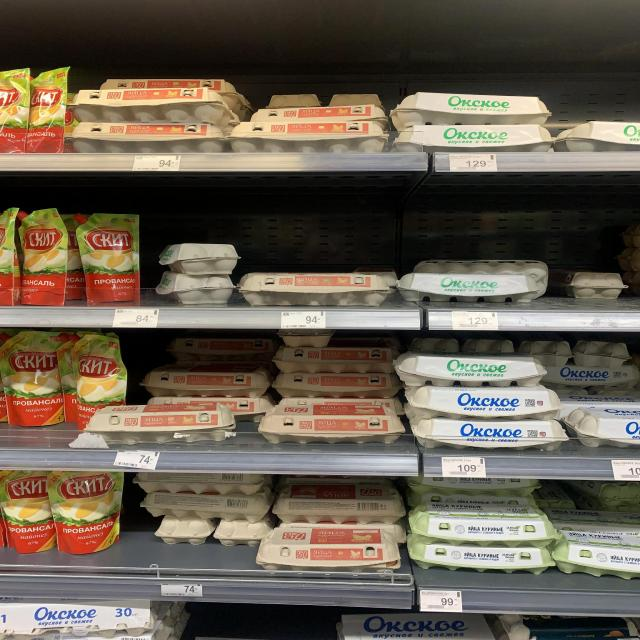organic waste: (255, 526, 401, 578), (408, 502, 558, 547), (50, 467, 127, 552), (82, 404, 240, 445), (236, 268, 390, 308), (0, 332, 65, 424), (389, 89, 555, 125), (67, 334, 131, 427), (78, 213, 142, 306), (258, 404, 404, 444), (408, 417, 570, 452), (270, 482, 405, 524), (391, 271, 552, 305), (392, 353, 553, 387), (69, 87, 227, 121), (403, 386, 565, 419), (391, 120, 557, 152), (404, 539, 554, 573), (14, 210, 68, 304), (0, 468, 58, 554), (69, 122, 227, 153), (227, 122, 390, 152), (550, 530, 640, 583), (137, 363, 272, 398), (270, 370, 401, 401), (272, 346, 401, 374), (407, 474, 540, 496), (165, 334, 277, 360), (0, 69, 33, 155), (578, 408, 640, 452), (32, 68, 64, 153), (546, 362, 640, 390), (166, 239, 236, 273), (164, 271, 234, 305), (568, 121, 640, 153)
